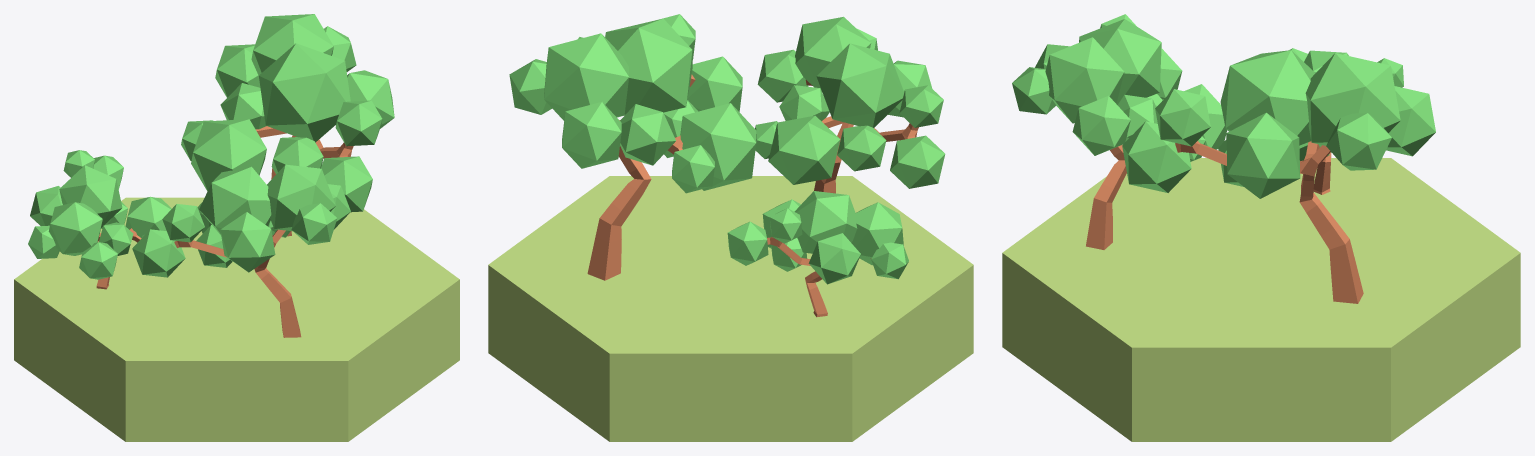
Rendered from forest.fbx.
The picture shows the model from 3 angles, left to right: view 1: azimuth 30°, elevation 25°; view 2: azimuth 150°, elevation 25°; view 3: azimuth 270°, elevation 25°; orthographic projection. The views are drawn at different scales.
Visible parts, largest first — view 1: Hex, Icosphere.032, Icosphere.025, Icosphere.021, Icosphere.017, Icosphere.028, Icosphere.020, Icosphere.006, Icosphere.010, Icosphere.026, Icosphere.015, Icosphere.027 (+19 smaller); view 2: Hex, Icosphere.032, Icosphere.028, Icosphere.021, Icosphere.025, Icosphere.014, Cube.002, Icosphere.022, Icosphere.017, Icosphere.010, Icosphere.030, Icosphere.026 (+19 smaller); view 3: Hex, Icosphere.032, Icosphere.028, Icosphere.031, Cube.002, Icosphere.017, Icosphere.021, Icosphere.026, Icosphere.023, Icosphere.027, Icosphere.011, Icosphere.022 (+6 smaller).
Boxes of the visible parts, bbox=[...] form: Hex: bbox=[14, 197, 459, 441]; Icosphere.032: bbox=[259, 43, 350, 142]; Icosphere.025: bbox=[191, 119, 266, 191]; Icosphere.021: bbox=[199, 166, 271, 235]; Icosphere.017: bbox=[267, 164, 335, 231]; Icosphere.028: bbox=[251, 14, 333, 75]; Icosphere.020: bbox=[220, 212, 275, 272]; Icosphere.006: bbox=[48, 202, 102, 255]; Icosphere.010: bbox=[59, 165, 122, 227]; Icosphere.026: bbox=[321, 156, 372, 212]; Icosphere.015: bbox=[132, 229, 185, 277]; Icosphere.027: bbox=[335, 100, 382, 146]; Hex: bbox=[488, 176, 973, 441]; Icosphere.032: bbox=[605, 18, 692, 114]; Icosphere.028: bbox=[544, 33, 628, 120]; Icosphere.021: bbox=[816, 43, 904, 127]; Icosphere.025: bbox=[680, 103, 756, 190]; Icosphere.014: bbox=[768, 115, 840, 184]; Cube.002: bbox=[587, 74, 695, 280]; Icosphere.022: bbox=[562, 102, 621, 168]; Icosphere.017: bbox=[795, 16, 871, 91]; Icosphere.010: bbox=[794, 191, 857, 253]; Icosphere.030: bbox=[620, 104, 675, 165]; Icosphere.026: bbox=[687, 56, 742, 111]; Hex: bbox=[1002, 158, 1520, 441]; Icosphere.032: bbox=[1220, 50, 1315, 145]; Icosphere.028: bbox=[1305, 53, 1400, 145]; Icosphere.031: bbox=[1226, 112, 1300, 198]; Cube.002: bbox=[1175, 141, 1363, 303]; Icosphere.017: bbox=[1045, 37, 1124, 123]; Icosphere.021: bbox=[1079, 19, 1161, 104]; Icosphere.026: bbox=[1122, 121, 1191, 192]; Icosphere.023: bbox=[1326, 113, 1391, 170]; Icosphere.027: bbox=[1155, 89, 1210, 146]; Icosphere.011: bbox=[1072, 95, 1130, 155]; Icosphere.022: bbox=[1386, 86, 1435, 156].
Bounding box in the file's own units: 182 × 146 × 200.
